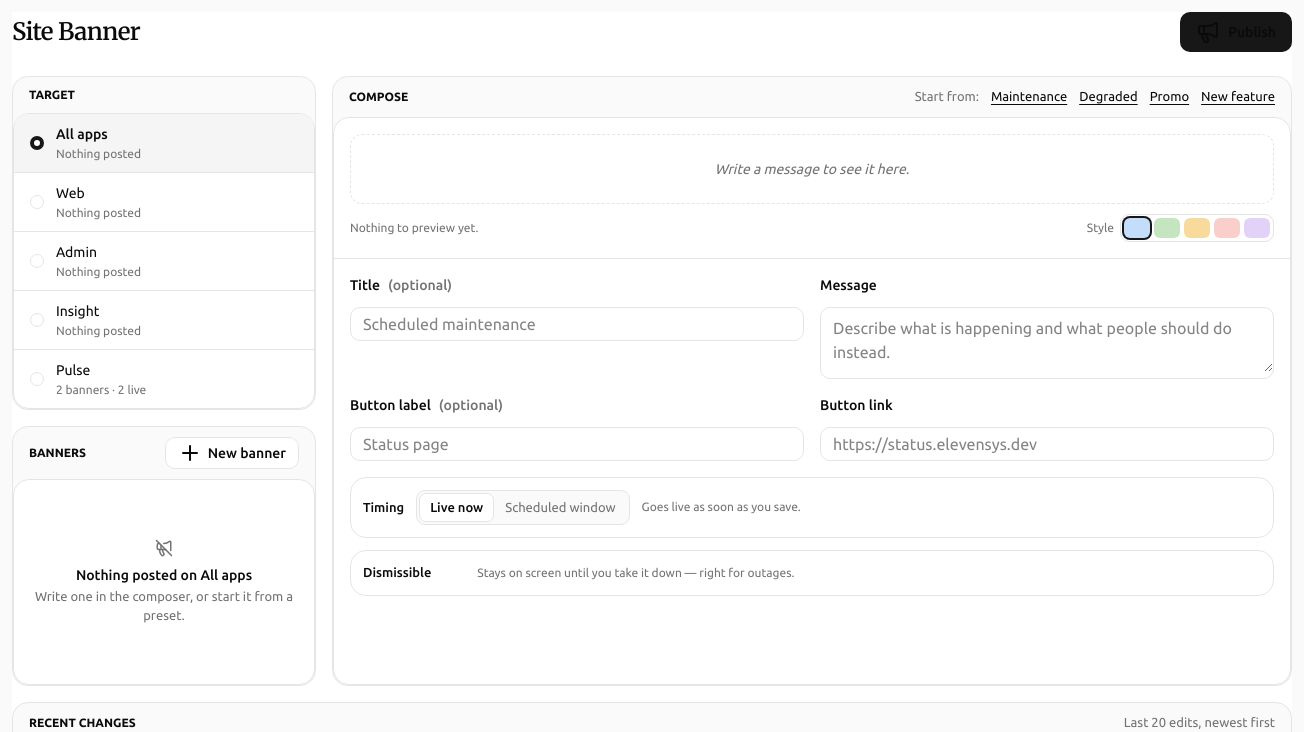
Test case: SiteBannerForm › lists every banner already posted for the selected target
Step 1. Click the 6th radio button labelled "Pulse 2 banners · 2 live" → (88, 379), box left=30, top=362, right=146, bottom=396
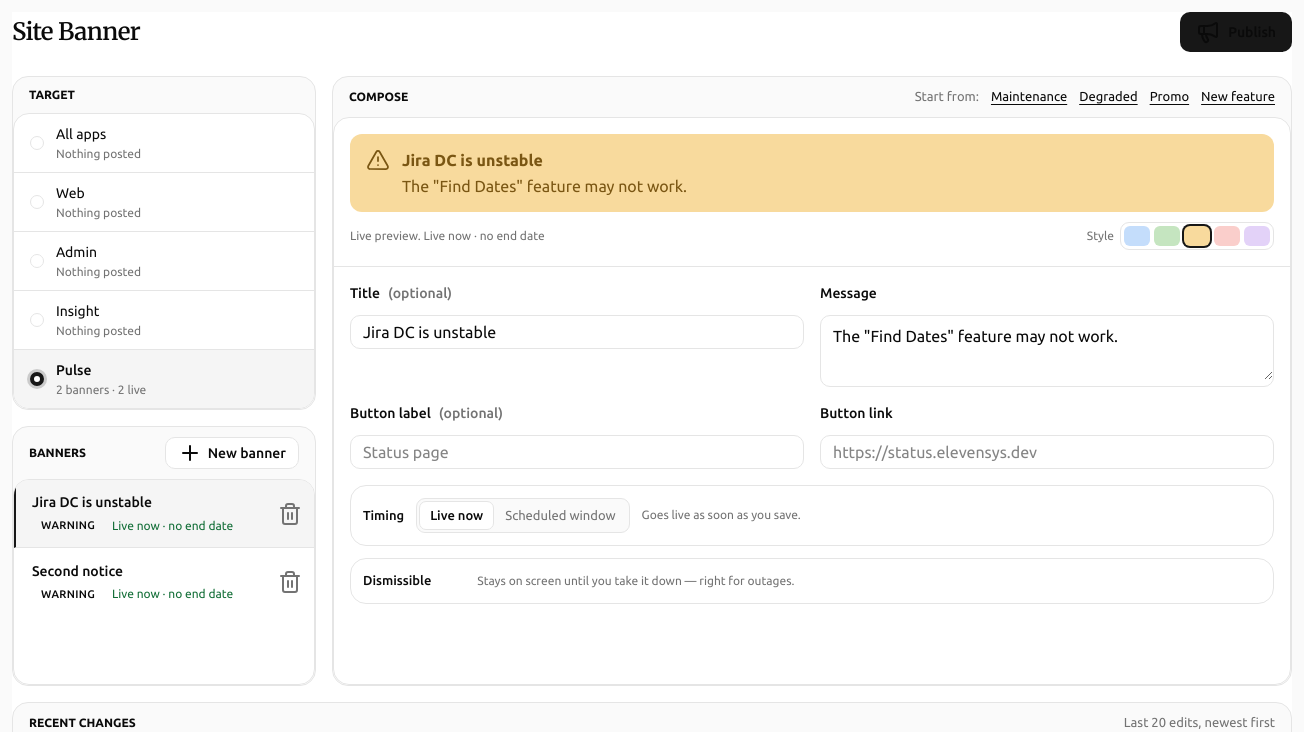
Result: the button "Jira DC is unstable Warning Live now · no end date" is shown at left=16, top=480, right=266, bottom=547
Result: the button "Second notice Warning Live now · no end date" is shown at left=16, top=548, right=266, bottom=616
